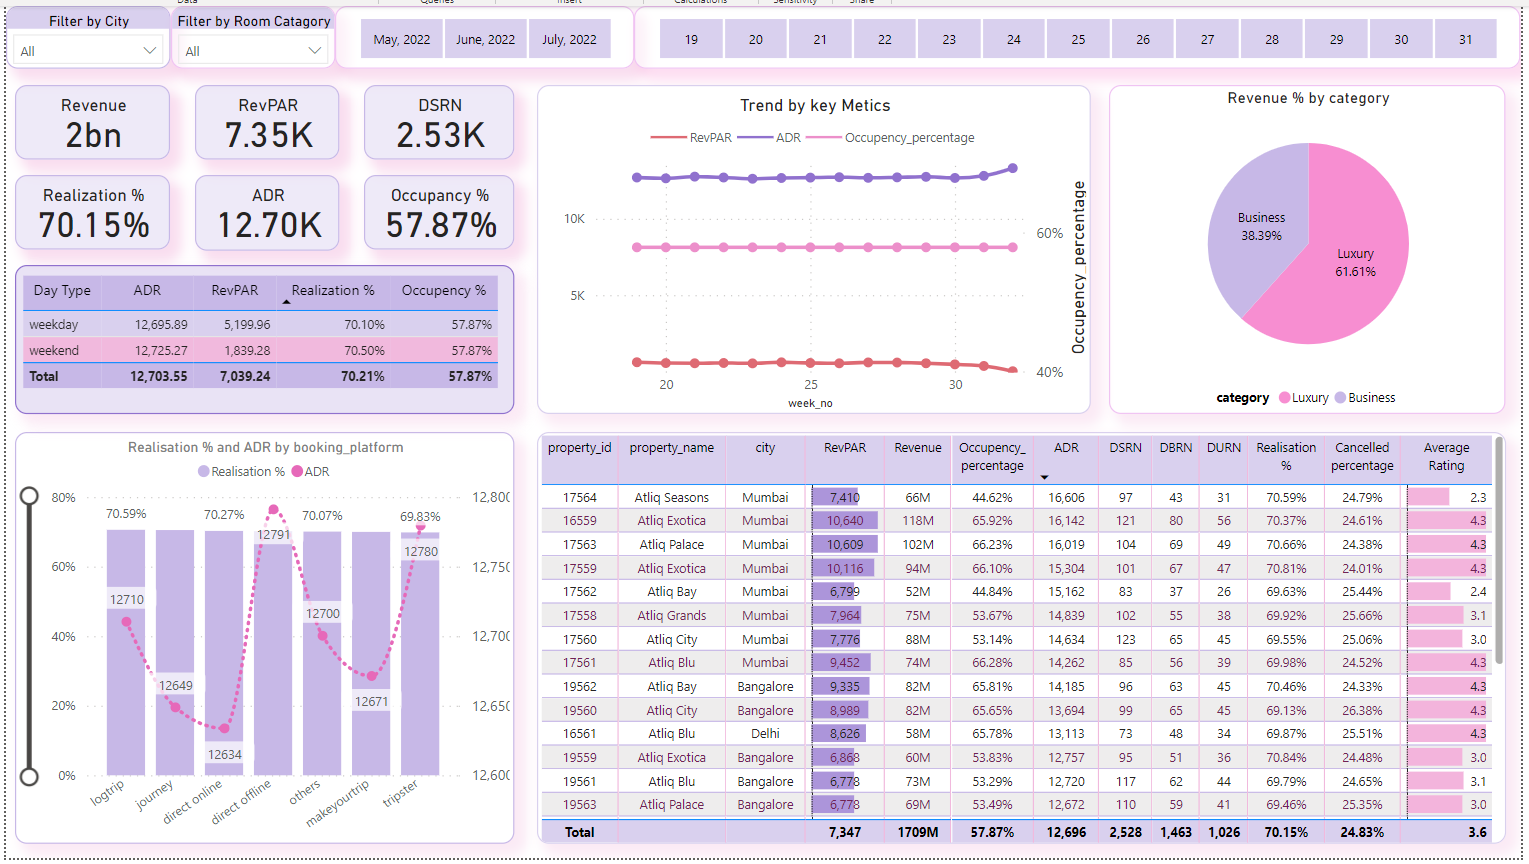

The page's visual inventory and layout, read from the dashboard file:
{"tool":"powerbi","page":{"name":"Page 1","canvas":[1280,720],"ordinal":0},"visuals":[{"type":"tableEx","fields":{"Values":["dim_hotal.property_id","dim_hotal.property_name","dim_hotal.city","key_measures.RevPAR","key_measures.Revenue","key_measures.Occupency_percentage","key_measures.ADR","key_measures.DSRN","key_measures.DBRN","key_measures.DURN","key_measures.Realisation %","key_measures.Cancelled percentage"]},"box":[448.7,360,818.9,348.2],"z":0},{"type":"slicer","title":"Filter by City","fields":{"Values":["dim_hotal.city"]},"box":[0,0,138.6,53.2],"z":1000},{"type":"slicer","title":"Filter by Room Catagory","fields":{"Values":["dim_rooms.room_class"]},"box":[139.4,0,138.6,53.2],"z":2000},{"type":"slicer","fields":{"Values":["dim_date.mmm yy"]},"box":[278,0,252.7,53.2],"z":3000},{"type":"slicer","fields":{"Values":["dim_date.week_no"]},"box":[531,0,749,53.4],"z":4000},{"type":"card","title":"Revenue","fields":{"Values":["key_measures.Revenue"]},"box":[7.6,66.8,131,63.4],"z":5000},{"type":"card","title":"RevPAR","fields":{"Values":["key_measures.RevPAR"]},"box":[159.7,66.8,121.7,63.4],"z":6000},{"type":"card","title":"DSRN","fields":{"Values":["key_measures.DSRN"]},"box":[302.5,66.8,126.8,63.4],"z":7000},{"type":"card","title":"Realization %","fields":{"Values":["key_measures.Realisation %"]},"box":[7.6,142.8,131,63.4],"z":8000},{"type":"card","title":"ADR","fields":{"Values":["key_measures.ADR"]},"box":[159.7,142.8,121.7,64.2],"z":9000},{"type":"card","title":"Occupancy %","fields":{"Values":["key_measures.Occupency_percentage"]},"box":[302.5,142.8,126.8,63.4],"z":10000},{"type":"pieChart","title":"Revenue % by category","fields":{"Y":["key_measures.Revenue"],"Category":["dim_hotal.category"]},"box":[932.1,66.8,335.5,278],"z":11000},{"type":"lineChart","title":"Trend by key Metics","fields":{"Y":["key_measures.RevPAR","key_measures.ADR"],"Category":["dim_date.week_no"],"Y2":["key_measures.Occupency_percentage"]},"box":[448.7,66.8,468.2,278],"z":12000},{"type":"lineStackedColumnComboChart","fields":{"Category":["fact_bookings.booking_platform"],"Y":["key_measures.Realisation %"],"Y2":["key_measures.ADR"]},"box":[7.6,360,421.7,348.2],"z":13000},{"type":"tableEx","fields":{"Values":["dim_date.day_type","key_measures.ADR","key_measures.RevPAR","key_measures.Realisation %","key_measures.Occupency_percentage"]},"box":[7.6,218.9,421.7,125.9],"z":14000}]}

Visuals, with their boxes on the page's 1280x720 design canvas (x1, y1, x2, y2). These are canvas units, not pixel positions in the 1529x864 screenshot, which may show the page scaled, cropped or inside an application window:
tableEx - dim_hotal.property_id x dim_hotal.property_name: (449, 360, 1268, 708)
"Filter by City" slicer: (0, 0, 139, 53)
"Filter by Room Catagory" slicer: (139, 0, 278, 53)
slicer - dim_date.mmm yy: (278, 0, 531, 53)
slicer - dim_date.week_no: (531, 0, 1280, 53)
"Revenue" card: (8, 67, 139, 130)
"RevPAR" card: (160, 67, 281, 130)
"DSRN" card: (302, 67, 429, 130)
"Realization %" card: (8, 143, 139, 206)
"ADR" card: (160, 143, 281, 207)
"Occupancy %" card: (302, 143, 429, 206)
"Revenue % by category" pieChart: (932, 67, 1268, 345)
"Trend by key Metics" lineChart: (449, 67, 917, 345)
lineStackedColumnComboChart - fact_bookings.booking_platform x key_measures.Realisation %: (8, 360, 429, 708)
tableEx - dim_date.day_type x key_measures.ADR: (8, 219, 429, 345)
